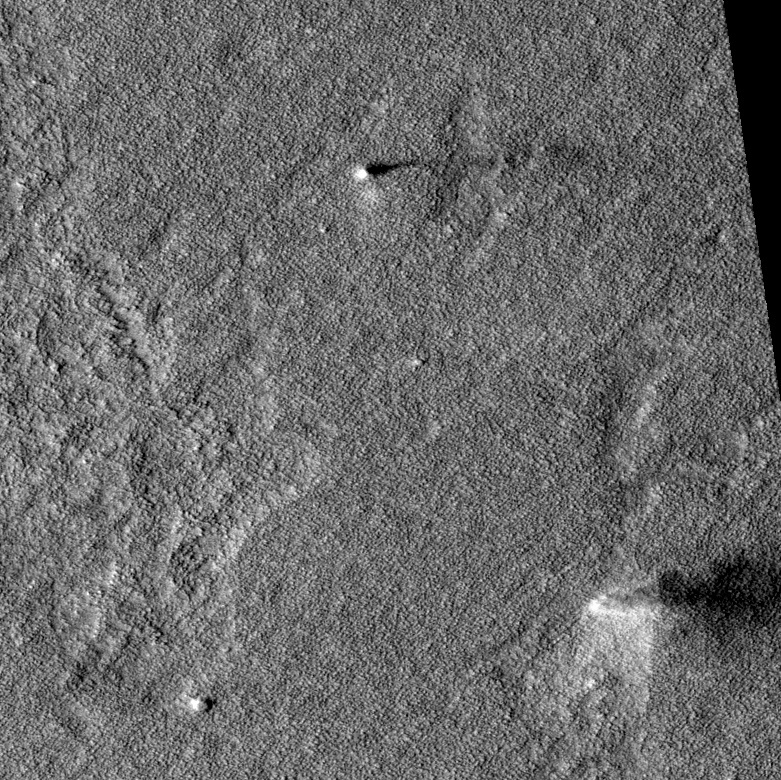dust_devil: (583, 550, 781, 643), (354, 158, 417, 181)
